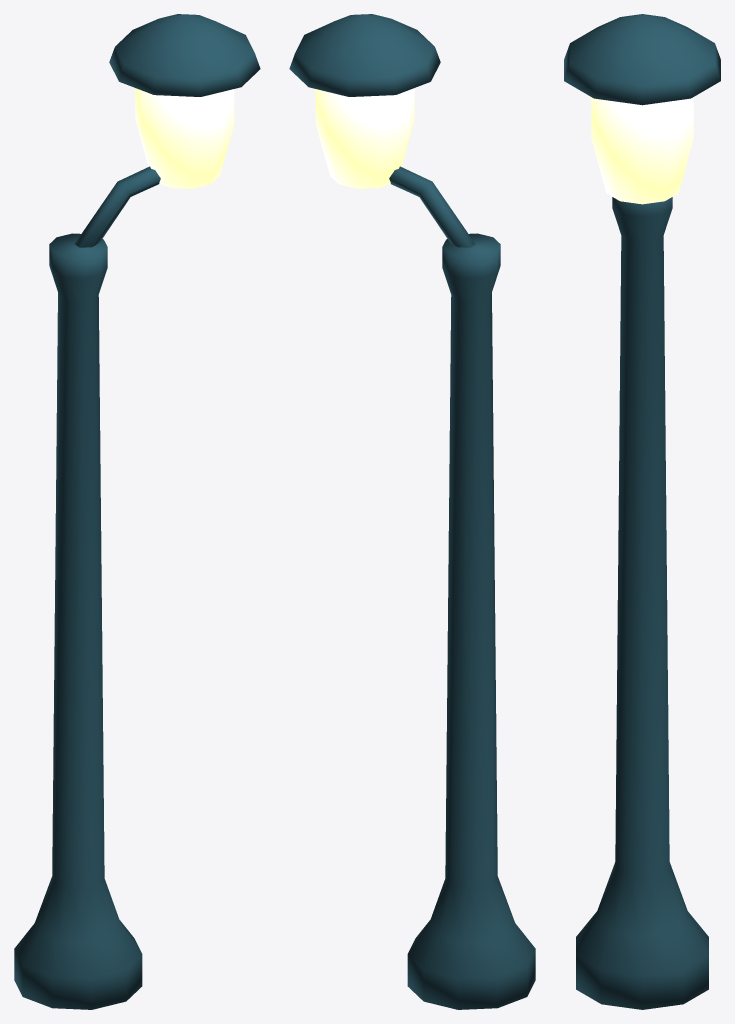
The model's file is street_lamp.glb.
The picture shows the model from 3 angles, left to right: view 1: azimuth 30°, elevation 25°; view 2: azimuth 150°, elevation 25°; view 3: azimuth 270°, elevation 25°; orthographic projection. The views are drawn at different scales.
Visible parts, largest first — view 1: Street_Lamp_Post, Street_Lamp_Light; view 2: Street_Lamp_Post, Street_Lamp_Light; view 3: Street_Lamp_Post, Street_Lamp_Light.
Boxes of the visible parts, <box> form: Street_Lamp_Post: <box>14,14,260,1009</box>; Street_Lamp_Light: <box>135,88,234,188</box>; Street_Lamp_Post: <box>289,14,535,1009</box>; Street_Lamp_Light: <box>315,88,414,188</box>; Street_Lamp_Post: <box>564,14,720,1009</box>; Street_Lamp_Light: <box>591,97,693,204</box>.
Bounding box in the file's own units: 0.9 × 3.55 × 0.4945.
